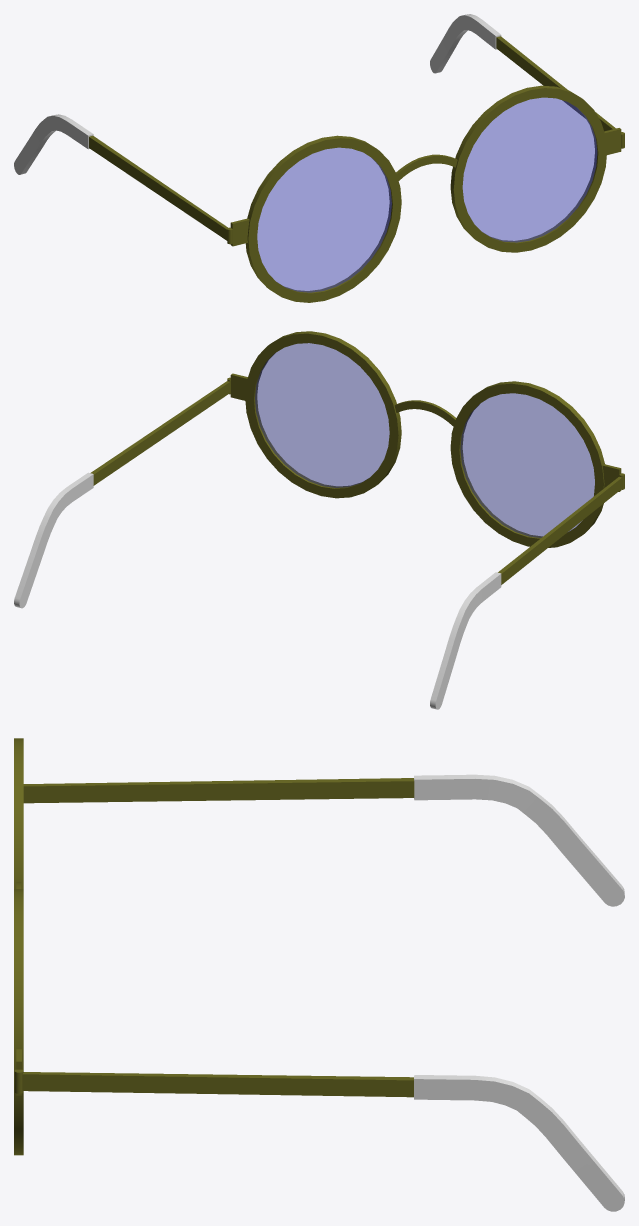
3 views of the same model, one above another, from view 1: azimuth 30°, elevation 25°; view 2: azimuth 150°, elevation 25°; view 3: azimuth 270°, elevation 25° (orthographic). The views are drawn at different scales.
Visible parts, largest first — view 1: Lens, Gold, black; view 2: Lens, Gold, black; view 3: Gold, black.
Boxes of the visible parts, x1,y1,x2,y2 form: Lens: (257, 97, 597, 292); Gold: (89, 36, 624, 302); black: (14, 14, 501, 174); Lens: (255, 343, 594, 537); Gold: (90, 331, 624, 584); black: (14, 472, 501, 709); Gold: (14, 738, 414, 1155); black: (414, 774, 624, 1211).
Size of the model in its own units: 1.94 by 0.7074 by 1.62.
